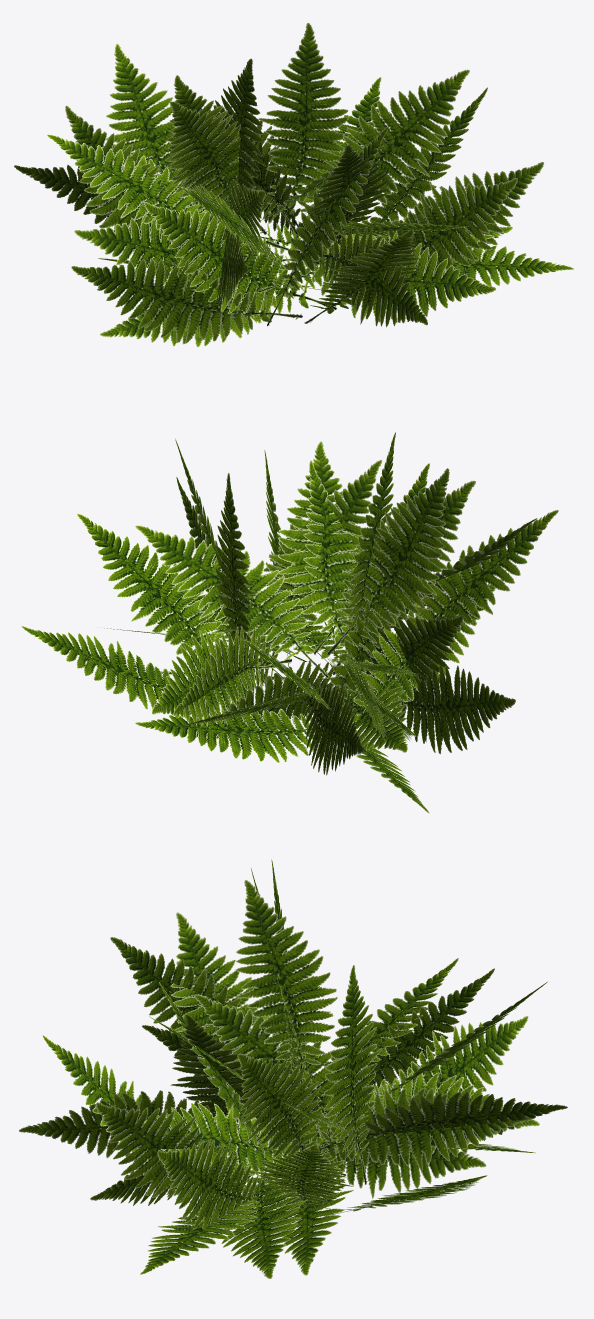
The model's file is bush.fbx.
3 renders of one model, top to bottom at view 1: azimuth 30°, elevation 25°; view 2: azimuth 150°, elevation 25°; view 3: azimuth 270°, elevation 25°, orthographic. The views are drawn at different scales.
Visible parts, largest first — view 1: Plane.001; view 2: Plane.001; view 3: Plane.001.
Part boxes in pixels (x1,y1,x2,y2): Plane.001: (14, 23, 573, 347); Plane.001: (21, 432, 558, 813); Plane.001: (19, 859, 567, 1278).
Size of the model in its own units: 237 by 169 by 240.
